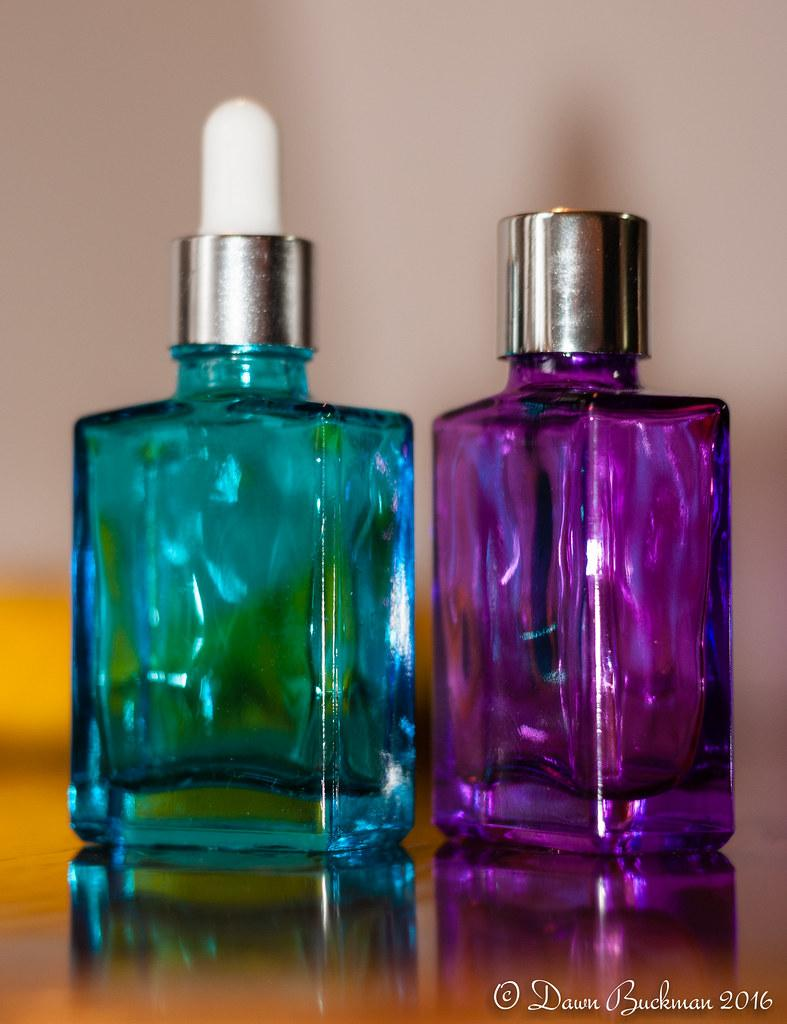bottle: (68, 97, 417, 857), (430, 207, 736, 858)
